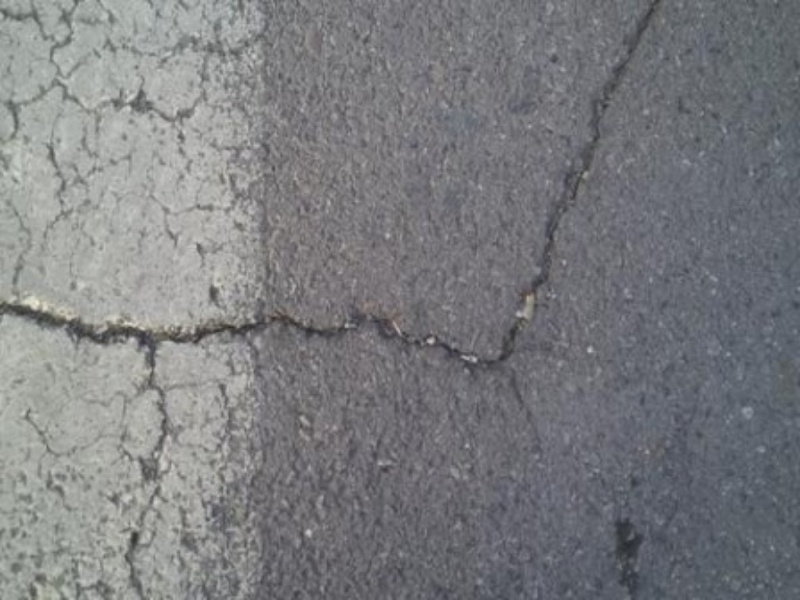crack: (1, 15, 676, 400), (103, 319, 200, 596)
